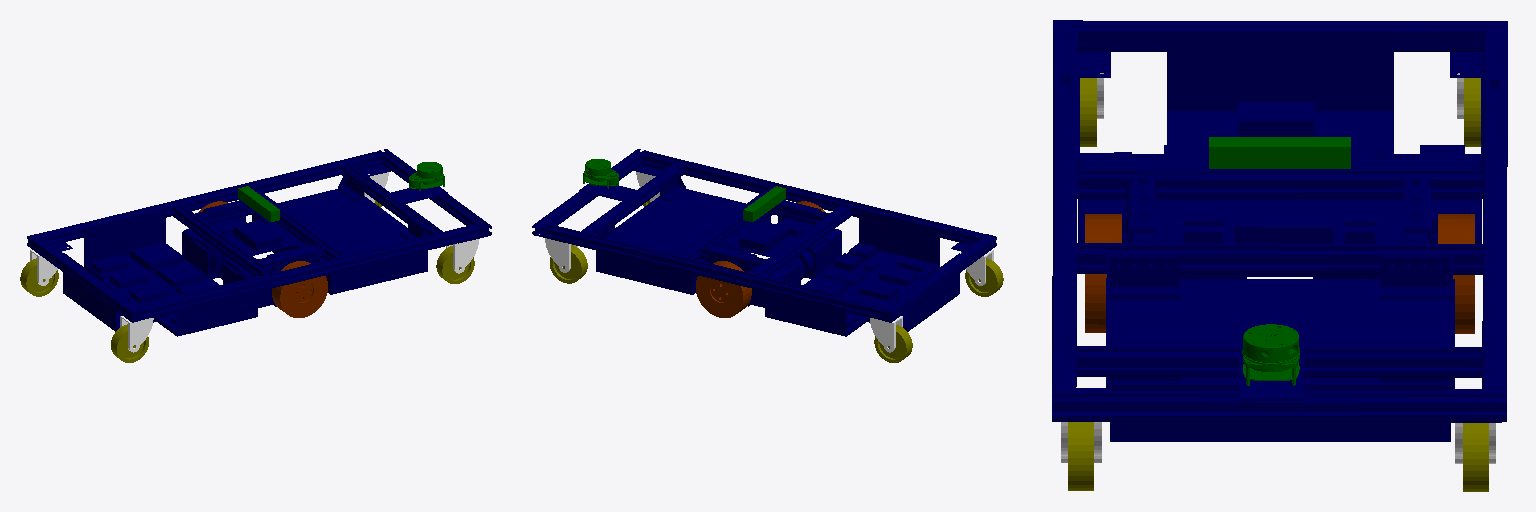
robot.urdf — amr_8:
<?xml version="1.0" encoding="utf-8"?>
<!-- This URDF was automatically created by SolidWorks to URDF Exporter! Originally created by Stephen Brawner ([email redacted]) 
     Commit Version: 1.6.0-1-g15f4949  Build Version: 1.6.7594.29634
     For more information, please see http://wiki.ros.org/sw_urdf_exporter -->
<robot
  name="amr_8">

  <!--===== Defining all colours here =====-->
  <material name="Orange">
    <color rgba="0.5 0.2 0.0 1" />
  </material>
  <material name="Yellow">
    <color rgba="0.5 0.5 0.0 1" />
  </material>
  <material name="Red">
    <color rgba="0.5 0.0 0.0 1" />
  </material>
  <material name="Blue">
    <color rgba="0.0 0.0 0.4 1" />
  </material>
  <material name="Green">
    <color rgba="0.0 0.4 0.0 1" />
  </material>
  <material name="White">
    <color rgba="1 1 1 1" />
  </material>

  <!--BASE FOOTPRINT-->
  <link name="base_footprint" />

  <link
    name="base">
    <inertial>
      <origin
        xyz="-0.064059 -0.0022909 -0.049505"
        rpy="0 0 0" />
      <mass
        value="19.525" />
      <inertia
        ixx="0.29993"
        ixy="-0.0014461"
        ixz="-0.00022725"
        iyy="0.22651"
        iyz="-0.00039565"
        izz="0.49465" />
    </inertial>
    <visual>
      <origin
        xyz="0 0 0"
        rpy="0 0 0" />
      <geometry>
        <mesh
          filename="package://amr_8/meshes/base.STL" />
      </geometry>
      <material
        name="Blue">
      </material>
    </visual>
    <collision>
      <origin
        xyz="0 0 0"
        rpy="0 0 0" />
      <geometry>
        <mesh
          filename="package://amr_8/meshes/base.STL" />
      </geometry>
    </collision>
  </link>

  <!--========================================== BASE JOINT ==========================================-->
  <joint name="base_joint" type="fixed">
    <origin xyz="0 0 0.13" rpy="0 0 3.14" />
    <parent link="base_footprint" />
    <child link="base" />
    <axis xyz="0 0 0" />
  </joint>

  <link
    name="casterhub1">
    <inertial>
      <origin
        xyz="0.021124 1.1393E-05 -0.037006"
        rpy="0 0 0" />
      <mass
        value="0.096702" />
      <inertia
        ixx="9.6191E-05"
        ixy="1.8378E-09"
        ixz="1.4686E-05"
        iyy="9.5049E-05"
        iyz="4.5372E-08"
        izz="7.6453E-05" />
    </inertial>
    <visual>
      <origin
        xyz="0 0 0"
        rpy="0 0 0" />
      <geometry>
        <mesh
          filename="package://amr_8/meshes/casterhub1.STL" />
      </geometry>
      <material
        name="White">
      </material>
    </visual>
    <collision>
      <origin
        xyz="0 0 0"
        rpy="0 0 0" />
      <geometry>
        <mesh
          filename="package://amr_8/meshes/casterhub1.STL" />
      </geometry>
    </collision>
  </link>
  <joint
    name="casterhub1joint"
    type="continuous">
    <origin
      xyz="0.50163 0.24239 0"
      rpy="0 0 0" />
    <parent
      link="base" />
    <child
      link="casterhub1" />
    <axis
      xyz="0 0 1" />
  </joint>
  <link
    name="casterwheel1">
    <inertial>
      <origin
        xyz="-6.8018E-10 1.0217E-13 -3.9451E-10"
        rpy="0 0 0" />
      <mass
        value="0.17494" />
      <inertia
        ixx="0.00013656"
        ixy="-1.5509E-28"
        ixz="-3.4686E-14"
        iyy="0.00025252"
        iyz="2.7903E-20"
        izz="0.00013656" />
    </inertial>
    <visual>
      <origin
        xyz="0 0 0"
        rpy="0 0 0" />
      <geometry>
        <mesh
          filename="package://amr_8/meshes/casterwheel1.STL" />
      </geometry>
      <material
        name="Yellow">
      </material>
    </visual>
    <collision>
      <origin
        xyz="0 0 0"
        rpy="0 0 0" />
      <geometry>
        <mesh
          filename="package://amr_8/meshes/casterwheel1.STL" />
      </geometry>
      
      <surface>
        <friction>
          <ode>
            <mu>1</mu>
            <mu2>1</mu2>
          </ode>
        </friction>
      </surface>
    
    </collision>
  </link>
  <joint
    name="casterwheel1joint"
    type="continuous">
    <origin
      xyz="0.037 0 -0.078"
      rpy="0 0 0" />
    <parent
      link="casterhub1" />
    <child
      link="casterwheel1" />
    <axis
      xyz="0 1 0" />
  </joint>
  <link
    name="casterhub2">
    <inertial>
      <origin
        xyz="0.021124 1.1393E-05 -0.037006"
        rpy="0 0 0" />
      <mass
        value="0.096702" />
      <inertia
        ixx="9.6191E-05"
        ixy="1.8378E-09"
        ixz="1.4686E-05"
        iyy="9.5049E-05"
        iyz="4.5372E-08"
        izz="7.6453E-05" />
    </inertial>
    <visual>
      <origin
        xyz="0 0 0"
        rpy="0 0 0" />
      <geometry>
        <mesh
          filename="package://amr_8/meshes/casterhub2.STL" />
      </geometry>
      <material
        name="White">
      </material>
    </visual>
    <collision>
      <origin
        xyz="0 0 0"
        rpy="0 0 0" />
      <geometry>
        <mesh
          filename="package://amr_8/meshes/casterhub2.STL" />
      </geometry>
    </collision>
  </link>
  <joint
    name="casterhub2joint"
    type="continuous">
    <origin
      xyz="-0.50172 0.24406 0"
      rpy="0 0 0" />
    <parent
      link="base" />
    <child
      link="casterhub2" />
    <axis
      xyz="0 0 1" />
  </joint>
  <link
    name="casterwheel2">
    <inertial>
      <origin
        xyz="-6.8013E-10 -5.5511E-17 -3.9253E-10"
        rpy="0 0 0" />
      <mass
        value="0.17494" />
      <inertia
        ixx="0.00013656"
        ixy="2.5266E-27"
        ixz="-3.4686E-14"
        iyy="0.00025252"
        iyz="2.7903E-20"
        izz="0.00013656" />
    </inertial>
    <visual>
      <origin
        xyz="0 0 0"
        rpy="0 0 0" />
      <geometry>
        <mesh
          filename="package://amr_8/meshes/casterwheel2.STL" />
      </geometry>
      <material
        name="Yellow">
      </material>
    </visual>
    <collision>
      <origin
        xyz="0 0 0"
        rpy="0 0 0" />
      <geometry>
        <mesh
          filename="package://amr_8/meshes/casterwheel2.STL" />
      </geometry>
      
      <surface>
        <friction>
          <ode>
            <mu>1</mu>
            <mu2>1</mu2>
          </ode>
        </friction>
      </surface>
    
    </collision>
  </link>
  <joint
    name="casterwheel2joint"
    type="continuous">
    <origin
      xyz="0.037 0 -0.078"
      rpy="0 0 0" />
    <parent
      link="casterhub2" />
    <child
      link="casterwheel2" />
    <axis
      xyz="0 1 0" />
  </joint>
  <link
    name="casterhub3">
    <inertial>
      <origin
        xyz="0.021124 1.1393E-05 -0.037006"
        rpy="0 0 0" />
      <mass
        value="0.096702" />
      <inertia
        ixx="9.6191E-05"
        ixy="1.8378E-09"
        ixz="1.4686E-05"
        iyy="9.5049E-05"
        iyz="4.5372E-08"
        izz="7.6453E-05" />
    </inertial>
    <visual>
      <origin
        xyz="0 0 0"
        rpy="0 0 0" />
      <geometry>
        <mesh
          filename="package://amr_8/meshes/casterhub3.STL" />
      </geometry>
      <material
        name="White">
      </material>
    </visual>
    <collision>
      <origin
        xyz="0 0 0"
        rpy="0 0 0" />
      <geometry>
        <mesh
          filename="package://amr_8/meshes/casterhub3.STL" />
      </geometry>
    </collision>
  </link>
  <joint
    name="casterhub3joint"
    type="continuous">
    <origin
      xyz="0.50163 -0.24209 0"
      rpy="0 0 0" />
    <parent
      link="base" />
    <child
      link="casterhub3" />
    <axis
      xyz="0 0 1" />
  </joint>
  <link
    name="casterwheel3">
    <inertial>
      <origin
        xyz="-6.8013E-10 5.5511E-17 -3.9258E-10"
        rpy="0 0 0" />
      <mass
        value="0.17494" />
      <inertia
        ixx="0.00013656"
        ixy="-2.0304E-25"
        ixz="-3.4686E-14"
        iyy="0.00025252"
        iyz="2.6103E-20"
        izz="0.00013656" />
    </inertial>
    <visual>
      <origin
        xyz="0 0 0"
        rpy="0 0 0" />
      <geometry>
        <mesh
          filename="package://amr_8/meshes/casterwheel3.STL" />
      </geometry>
      <material
        name="Yellow">
      </material>
    </visual>
    <collision>
      <origin
        xyz="0 0 0"
        rpy="0 0 0" />
      <geometry>
        <mesh
          filename="package://amr_8/meshes/casterwheel3.STL" />
      </geometry>
      
      <surface>
        <friction>
          <ode>
            <mu>1</mu>
            <mu2>1</mu2>
          </ode>
        </friction>
      </surface>
    
    </collision>
  </link>
  <joint
    name="casterwheel3joint"
    type="continuous">
    <origin
      xyz="0.037 0 -0.078"
      rpy="0 0 0" />
    <parent
      link="casterhub3" />
    <child
      link="casterwheel3" />
    <axis
      xyz="0 1 0" />
  </joint>
  <link
    name="casterhub4">
    <inertial>
      <origin
        xyz="0.021124 1.1393E-05 -0.037006"
        rpy="0 0 0" />
      <mass
        value="0.096702" />
      <inertia
        ixx="9.6191E-05"
        ixy="1.8378E-09"
        ixz="1.4686E-05"
        iyy="9.5049E-05"
        iyz="4.5372E-08"
        izz="7.6453E-05" />
    </inertial>
    <visual>
      <origin
        xyz="0 0 0"
        rpy="0 0 0" />
      <geometry>
        <mesh
          filename="package://amr_8/meshes/casterhub4.STL" />
      </geometry>
      <material
        name="White">
      </material>
    </visual>
    <collision>
      <origin
        xyz="0 0 0"
        rpy="0 0 0" />
      <geometry>
        <mesh
          filename="package://amr_8/meshes/casterhub4.STL" />
      </geometry>
    </collision>
  </link>
  <joint
    name="casterhub4joint"
    type="continuous">
    <origin
      xyz="-0.50233 -0.2419 0"
      rpy="0 0 0" />
    <parent
      link="base" />
    <child
      link="casterhub4" />
    <axis
      xyz="0 0 1" />
  </joint>
  <link
    name="casterwheel4">
    <inertial>
      <origin
        xyz="-6.8013E-10 -2.7756E-17 -3.9256E-10"
        rpy="0 0 0" />
      <mass
        value="0.17494" />
      <inertia
        ixx="0.00013656"
        ixy="-1.6203E-28"
        ixz="-3.4686E-14"
        iyy="0.00025252"
        iyz="2.7903E-20"
        izz="0.00013656" />
    </inertial>
    <visual>
      <origin
        xyz="0 0 0"
        rpy="0 0 0" />
      <geometry>
        <mesh
          filename="package://amr_8/meshes/casterwheel4.STL" />
      </geometry>
      <material
        name="Yellow">
      </material>
    </visual>
    <collision>
      <origin
        xyz="0 0 0"
        rpy="0 0 0" />
      <geometry>
        <mesh
          filename="package://amr_8/meshes/casterwheel4.STL" />
      </geometry>
      
      <surface>
        <friction>
          <ode>
            <mu>1</mu>
            <mu2>1</mu2>
          </ode>
        </friction>
      </surface>
    
    </collision>
  </link>
  <joint
    name="casterwheel4joint"
    type="continuous">
    <origin
      xyz="0.037 0 -0.078"
      rpy="0 0 0" />
    <parent
      link="casterhub4" />
    <child
      link="casterwheel4" />
    <axis
      xyz="0 1 0" />
  </joint>



  <link
    name="left_drive_wheel">
    <inertial>
      <origin
        xyz="3.724E-08 -0.02302 -6.1415E-08"
        rpy="0 0 0" />
      <mass
        value="0.70556" />
      <inertia
        ixx="0.0011582"
        ixy="4.4879E-10"
        ixz="1.1745E-10"
        iyy="0.002089"
        iyz="-7.4013E-10"
        izz="0.0011582" />
    </inertial>
    <visual>
      <origin
        xyz="0 0 0"
        rpy="0 0 0" />
      <geometry>
        <mesh
          filename="package://amr_8/meshes/left_drive_wheel.STL" />
      </geometry>
      <material
        name="Orange">
      </material>
    </visual>
    <collision>
      <origin
        xyz="0 0 0"
        rpy="0 0 0" />
      <geometry>
        <mesh
          filename="package://amr_8/meshes/left_drive_wheel.STL" />
      </geometry>
      
      <surface>
        <friction>
          <ode>
            <mu>1</mu>
            <mu2>1</mu2>
          </ode>
        </friction>
      </surface>
    
    </collision>
  </link>


  <joint
    name="left_drive_wheel_joint"
    type="continuous">
    <origin
      xyz="-0.00021568 -0.195 -0.0539"
      rpy="0 0 0" />
    <!--origin
      xyz="-0.00021568 -0.195 -0.053698"
      rpy="0 0 0" /-->
    <parent
      link="base" />
    <child
      link="left_drive_wheel" />
    <axis
      xyz="0 -1 0" />
  </joint>


  <link
    name="right_drive_wheel">
    <inertial>
      <origin
        xyz="3.724E-08 0.02302 6.1415E-08"
        rpy="0 0 0" />
      <mass
        value="0.70556" />
      <inertia
        ixx="0.0011582"
        ixy="-4.4879E-10"
        ixz="-1.1745E-10"
        iyy="0.002089"
        iyz="-7.4013E-10"
        izz="0.0011582" />
    </inertial>
    <visual>
      <origin
        xyz="0 0 0"
        rpy="0 0 0" />
      <geometry>
        <mesh
          filename="package://amr_8/meshes/right_drive_wheel.STL" />
      </geometry>
      <material
        name="Orange">
      </material>
    </visual>
    <collision>
      <origin
        xyz="0 0 0"
        rpy="0 0 0" />
      <geometry>
        <mesh
          filename="package://amr_8/meshes/right_drive_wheel.STL" />
      </geometry>
      
      <surface>
        <friction>
          <ode>
            <mu>1</mu>
            <mu2>1</mu2>
          </ode>
        </friction>
      </surface>
    
    </collision>
  </link>


  <joint
    name="right_drive_wheel_joint"
    type="continuous">
    <origin
      xyz="-0.00021568 0.195 -0.0539"
      rpy="0 0 0" />
    <!--origin
      xyz="-0.00021568 0.195 -0.053698"
      rpy="0 0 0" /-->
    <parent
      link="base" />
    <child
      link="right_drive_wheel" />
    <axis
      xyz="0 -1 0" />
  </joint>



  <link
    name="lidar">
    <inertial>
      <origin
        xyz="-0.02994 0.019468 0.024735"
        rpy="0 0 0" />
      <mass
        value="0.073085" />
      <inertia
        ixx="1.9581E-05"
        ixy="-1.0393E-07"
        ixz="-4.2839E-07"
        iyy="2.4125E-05"
        iyz="9.4271E-09"
        izz="4.1418E-05" />
    </inertial>
    <visual>
      <origin
        xyz="0 -0.02 0"
        rpy="0 0 0" />
      <geometry>
        <mesh
          filename="package://amr_8/meshes/lidar.STL" />
      </geometry>
      <material
        name="Green">
      </material>
    </visual>
    <collision>
      <origin
        xyz="0 0 0"
        rpy="0 0 0" />
      <geometry>
        <mesh
          filename="package://amr_8/meshes/lidar.STL" />
      </geometry>
    </collision>
  </link>
  <joint
    name="lidarjoint"
    type="fixed">
    <origin
      xyz="-0.47725 0.01 0.05"
      rpy="0 0 0" />
    <!--origin
      xyz="-0.47725 -0.011631 0.034"
      rpy="0 0 0" /-->
    <parent
      link="base" />
    <child
      link="lidar" />
    <axis
      xyz="0 0 0" />
  </joint>

        <!-- Camera Center -->
        <joint name="zed_camera_center_joint" type="fixed">
	  <origin
	    xyz="0 0 0.11"
	    rpy="0 0 3.14" />
            <parent link="base"/>
            <child link="zed_camera_center"/>
        </joint>

        <link name="zed_camera_center">
            <visual>
                <origin xyz="0 0 0" rpy="0 0 1.57"/>
                <geometry>
                    <!--mesh filename="file://$(find sd_truck_description)/meshes/zed2.stl"/-->
                    <box size="0.175 0.030 0.030"/>
                </geometry>
                <material name="Green" />
            </visual>
            <collision>
                <origin xyz="0 0 0" rpy="0 0 0"/>
                <geometry>
                    <!--mesh filename="file://$(find sd_truck_description)/meshes/zed2.stl"/-->
                    <box size="0.0175 0.0030 0.0030"/>
                </geometry>
            </collision>
            <inertial>
                <mass value="1e-5" />
                <origin xyz="0 0 0" rpy="0 0 0"/>
                <inertia ixx="1e-6" ixy="0" ixz="0" iyy="1e-6" iyz="0" izz="1e-6" />
            </inertial>
        </link>

    <!-- Left Camera -->
        <joint name="zed_left_camera_joint" type="fixed">
            <parent link="zed_camera_center"/>
            <child link="zed_left_camera_frame"/>
            <origin xyz="0 0.06 0" rpy="0 0 0" />
        </joint>

        <link name="zed_left_camera_frame" />

        <joint name="zed_left_camera_optical_joint" type="fixed">
            <origin xyz="0 0 0" rpy="0 0 0" />
            <parent link="zed_left_camera_frame" />
            <child link="zed_left_camera_link_optical" />
        </joint>
        <link name="zed_left_camera_link_optical" />

    <!-- Right Camera -->
        <joint name="zed_right_camera_joint" type="fixed">
            <parent link="zed_camera_center"/>
            <child link="zed_right_camera_frame"/>
            <origin xyz="0 -0.06 0" rpy="0 0 0" />
        </joint>

        <link name="zed_right_camera_frame" />

        <joint name="zed_right_camera_optical_joint" type="fixed">
            <origin xyz="0 0 0" rpy="0 0 0" />
            <parent link="zed_right_camera_frame" />
            <child link="zed_right_camera_link_optical" />
        </joint>

        <link name="zed_right_camera_link_optical" />








  <!--========================================== GAZEBO TAGS ==========================================-->
  <gazebo reference="base">
    <material>Gazebo/Blue</material>
  </gazebo>

  <gazebo reference="left_drive_wheel">
    <material>Gazebo/Orange</material>
  </gazebo>

  <gazebo reference="right_drive_wheel">
    <material>Gazebo/Orange</material>
  </gazebo>

  <gazebo reference="casterwheel1">
    <material>Gazebo/Yellow</material>
  </gazebo>

  <gazebo reference="casterwheel2">
    <material>Gazebo/Yellow</material>
  </gazebo>

  <gazebo reference="casterwheel3">
    <material>Gazebo/Yellow</material>
  </gazebo>
  
  <gazebo reference="casterwheel4">
    <material>Gazebo/Yellow</material>
  </gazebo>

  <gazebo reference="lidar">
    <material>Gazebo/Green</material>
  </gazebo>

  <gazebo reference="zed_camera_center">
    <material>Gazebo/Green</material>
  </gazebo>


  <!--========================================== DIFF DRIVE PLUGIN - GAZEBO ==========================================-->

	<gazebo>
	  <plugin name="differential_drive_controller" filename="libgazebo_ros_diff_drive.so">
		<!-- Plugin update rate in Hz -->
		<updateRate>10</updateRate>
		<!-- Name of left joint, defaults to `left_joint` -->
		<leftJoint>left_drive_wheel_joint</leftJoint>
		<!-- Name of right joint, defaults to `right_joint` -->
		<rightJoint>right_drive_wheel_joint</rightJoint>
		<!-- The distance from the center of one wheel to the other, in meters, defaults to 0.34 m -->
		<wheelSeparation>0.421</wheelSeparation>
		<!-- Diameter of the wheels, in meters, defaults to 0.15 m -->
		<wheelDiameter>0.15</wheelDiameter>
		<!-- Wheel acceleration, in rad/s^2, defaults to 0.0 rad/s^2 -->
		<wheelAcceleration>0.75</wheelAcceleration>
		<!-- Maximum torque which the wheels can produce, in Nm, defaults to 5 Nm -->
		<wheelTorque>500</wheelTorque>
		<!-- Topic to receive geometry_msgs/Twist message commands, defaults to `cmd_vel` -->
		<commandTopic>cmd_vel</commandTopic>
		<!-- Topic to publish nav_msgs/Odometry messages, defaults to `odom` -->
		<odometryTopic>odom_gazebo</odometryTopic>
		<!-- Odometry frame, defaults to `odom` -->
		<odometryFrame>odom_gazebo</odometryFrame>
		<!-- Robot frame to calculate odometry from, defaults to `base_footprint` -->
		<robotBaseFrame>base_footprint</robotBaseFrame>
		<!-- Odometry source, 0 for ENCODER, 1 for WORLD, defaults to WORLD -->
		<odometrySource>1</odometrySource>
		<!-- Set to true to publish transforms for the wheel links, defaults to false -->
		<publishWheelTF>false</publishWheelTF>
		<!-- Set to true to publish transforms for the odometry, defaults to true -->
		<publishOdom>false</publishOdom>
		<publishOdomTF>false</publishOdomTF>
		<publishTF>false</publishTF>
		<!-- Set to true to publish sensor_msgs/JointState on /joint_states for the wheel joints, defaults to false -->
		<publishWheelJointState>false</publishWheelJointState>
		<!-- Set to true to swap right and left wheels, defaults to true -->
		<legacyMode>false</legacyMode>
	  </plugin>
	</gazebo>


  <!--========================================== LIDAR PLUGIN - GAZEBO ==========================================-->
  <!--Sample size of 4000 (original value of RPLidarA1M8) gives an error-->
  <gazebo reference="lidar">
      <sensor type="gpu_ray" name="laser">
      <!--sensor type="ray" name="laser"-->
          <pose>0 0 0 0 0 0</pose>
          <visualize>true</visualize>
          <update_rate>40</update_rate>
          <ray>
              <scan>
                  <horizontal>
                      <samples>720</samples>
                      <resolution>1</resolution>
                      <min_angle>0</min_angle>
                      <max_angle>6.28</max_angle>
                  </horizontal>
              </scan>
              <range>
                  <min>0.1</min>
                  <max>6</max>
                  <resolution>0.1</resolution>
              </range>
          </ray>
          <plugin name="gpu_laser" filename="libgazebo_ros_gpu_laser.so">
              <topicName>/scan</topicName>
              <frameName>lidar</frameName>
          </plugin>
      </sensor>
  </gazebo>

  <!--========================================== STEREO CAMERA PLUGIN - GAZEBO ==========================================-->
        <gazebo reference="zed_left_camera_link_optical">
            <sensor type="multicamera" name="zed_camera">
            <update_rate>5.0</update_rate>
            <!--update_rate>30.0</update_rate-->
            <camera name="left">
                <horizontal_fov>1.919862177</horizontal_fov>
                <image>
                    <width>672</width>
                    <height>376</height>
                    <format>R8G8B8</format>
                </image>
                <clip>
                    <near>0.02</near>
                    <far>300</far>
                </clip>
                <noise>
                    <type>gaussian</type>
                    <mean>0.0</mean>
                    <stddev>0.007</stddev>
                </noise>
            </camera>
            <camera name="right">
                <horizontal_fov>1.919862177</horizontal_fov>
                <image>
                    <width>672</width>
                    <height>376</height>
                    <format>R8G8B8</format>
                </image>
                <clip>
                    <near>0.02</near>
                    <far>300</far>
                </clip>
                <noise>
                    <type>gaussian</type>
                    <mean>0.0</mean>
                    <stddev>0.007</stddev>
                </noise>
            </camera>
            <plugin name="zed_camera_controller" filename="libgazebo_ros_multicamera.so">
                <alwaysOn>true</alwaysOn>
                <updateRate>0.0</updateRate>
                <cameraName>sd_truck/zed_camera</cameraName>
                <imageTopicName>image_raw</imageTopicName>
                <cameraInfoTopicName>camera_info</cameraInfoTopicName>
                <frameName>zed_left_camera_link_optical</frameName>
                <rightFrameName>zed_right_camera_link_optical</rightFrameName>
                <hackBaseline>0.07</hackBaseline>
                <distortionK1>0.0</distortionK1>
                <distortionK2>0.0</distortionK2>
                <distortionK3>0.0</distortionK3>
                <distortionT1>0.0</distortionT1>
                <distortionT2>0.0</distortionT2>
            </plugin>
            </sensor>
        </gazebo>


</robot>

--- Render facts (derived) ---
3 views of the same robot in one strip: view 1: azimuth 30°, elevation 25°; view 2: azimuth 150°, elevation 25°; view 3: azimuth 270°, elevation 25° (orthographic).
Robot: amr_8 — 18 links, 17 joints (10 continuous, 7 fixed); root link base_footprint; default pose: all joints at 0.
Visible links, largest first — view 1: base, right_drive_wheel, lidar, casterwheel1, zed_camera_center, casterwheel3, casterwheel2, casterhub1, casterhub2; view 2: base, left_drive_wheel, lidar, casterwheel1, zed_camera_center, casterwheel4, casterwheel3, casterhub3, casterhub4; view 3: base, zed_camera_center, lidar, right_drive_wheel, left_drive_wheel, casterwheel2, casterwheel4, casterwheel1, casterwheel3, casterhub2, casterhub4.
Boxes of the visible links, bbox=[...] form: base: bbox=[27, 149, 491, 336]; right_drive_wheel: bbox=[272, 261, 327, 317]; lidar: bbox=[409, 162, 444, 191]; casterwheel1: bbox=[111, 324, 148, 362]; zed_camera_center: bbox=[238, 186, 279, 221]; casterwheel3: bbox=[20, 258, 58, 296]; casterwheel2: bbox=[436, 246, 474, 283]; casterhub1: bbox=[120, 316, 153, 352]; casterhub2: bbox=[446, 239, 478, 273]; base: bbox=[532, 149, 996, 336]; left_drive_wheel: bbox=[696, 261, 751, 317]; lidar: bbox=[583, 159, 618, 188]; casterwheel1: bbox=[965, 258, 1003, 296]; zed_camera_center: bbox=[743, 186, 785, 221]; casterwheel4: bbox=[550, 245, 587, 283]; casterwheel3: bbox=[874, 325, 912, 362]; casterhub3: bbox=[870, 316, 902, 352]; casterhub4: bbox=[545, 238, 577, 272]; base: bbox=[1052, 20, 1507, 441]; zed_camera_center: bbox=[1209, 137, 1350, 168]; lidar: bbox=[1242, 324, 1299, 385]; right_drive_wheel: bbox=[1085, 214, 1121, 332]; left_drive_wheel: bbox=[1438, 214, 1474, 333]; casterwheel2: bbox=[1068, 422, 1093, 490]; casterwheel4: bbox=[1463, 423, 1488, 491]; casterwheel1: bbox=[1080, 78, 1096, 146]; casterwheel3: bbox=[1464, 78, 1480, 146]; casterhub2: bbox=[1061, 422, 1101, 462]; casterhub4: bbox=[1455, 423, 1495, 463].
Bounding box of the posed robot: 1.14 × 0.5618 × 0.253 m (x, y, z).
Meshes: 12 distinct files referenced, 12 mesh visuals loaded (12 binary STL).
